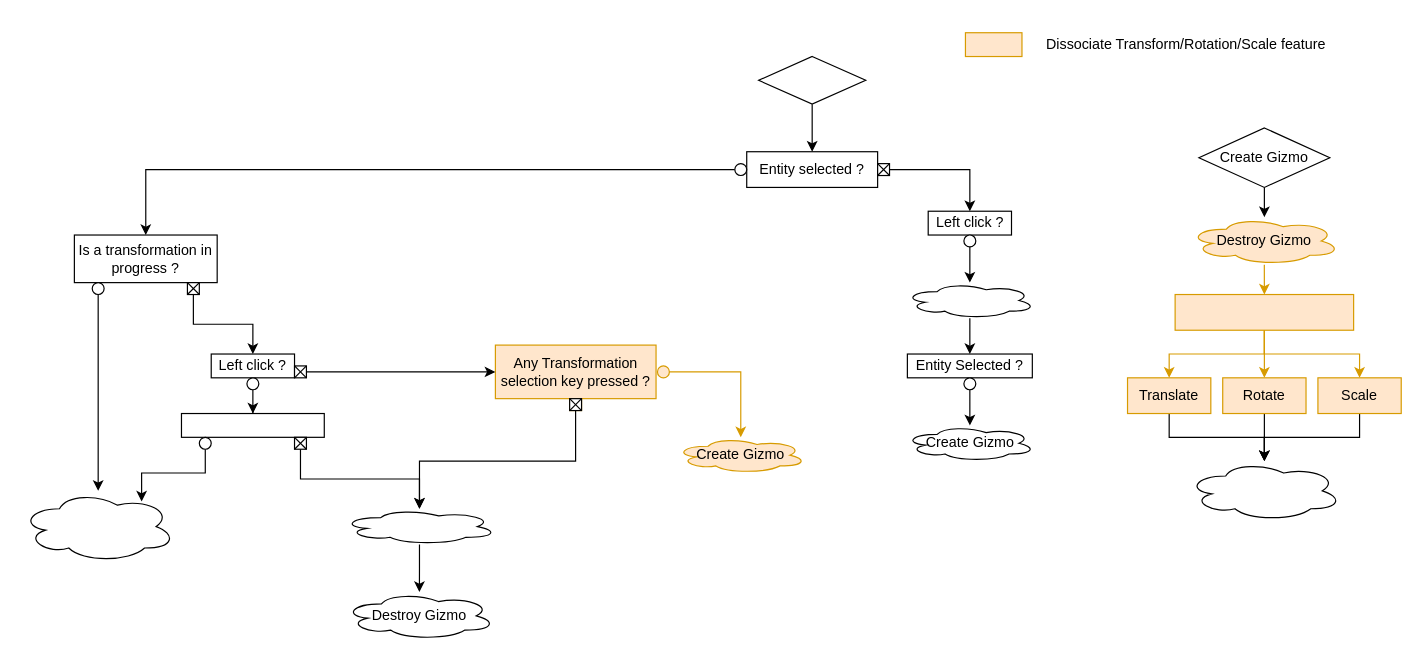
The diagram is 1422 pixels wide and 660 high, and some of its shapes have lost their labels. The centre of each missing label's shape, as x and y in pixels:
A Gizmo is selected ?: the point at 252,424
Create assocaited Gizmo: the point at 1264,490
Main loop: the point at 811,79
Perform selected transformation: the point at 98,526
Select Entity: the point at 969,299
Unselect Entity: the point at 419,526
Which Transformation is selected ?: the point at 1264,311
